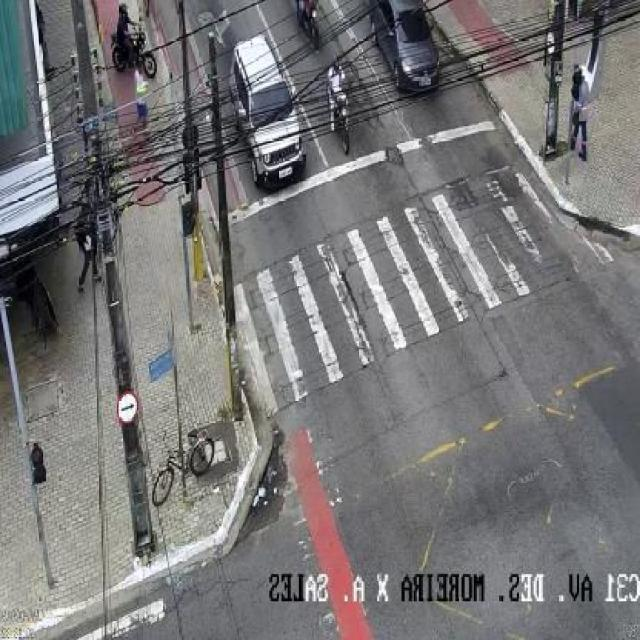Car: (227, 33, 305, 187), (370, 0, 442, 96)
Cycle: (148, 427, 221, 507), (110, 26, 156, 78), (330, 86, 356, 154), (296, 2, 322, 48)
